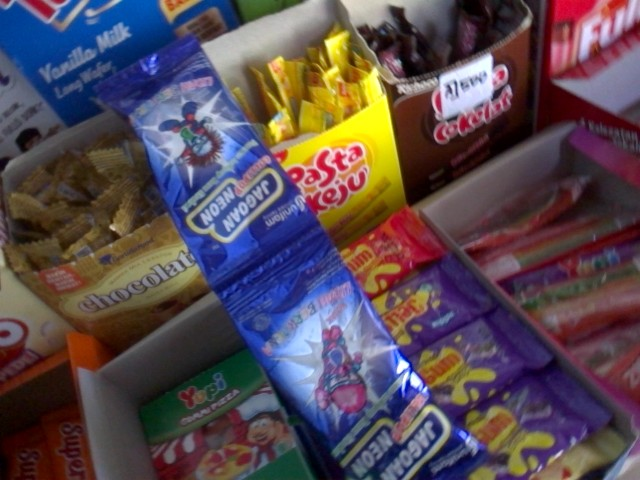jagoan neon: (92, 34, 331, 308), (219, 235, 486, 479)
